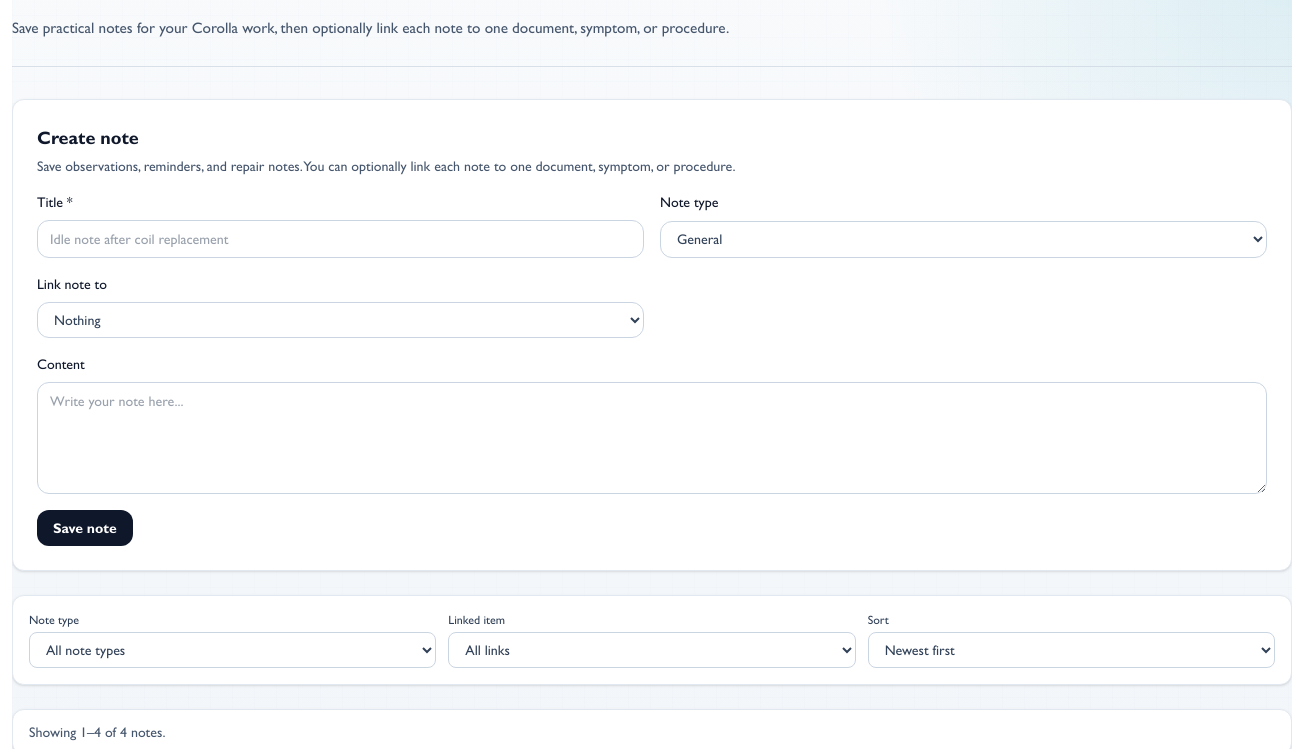
it: NotesPage filters notes by linked item type
Select "Symptom" in the dropdown labelled "Linked item" at {"x": 652, "y": 650}, box [448, 632, 856, 668]
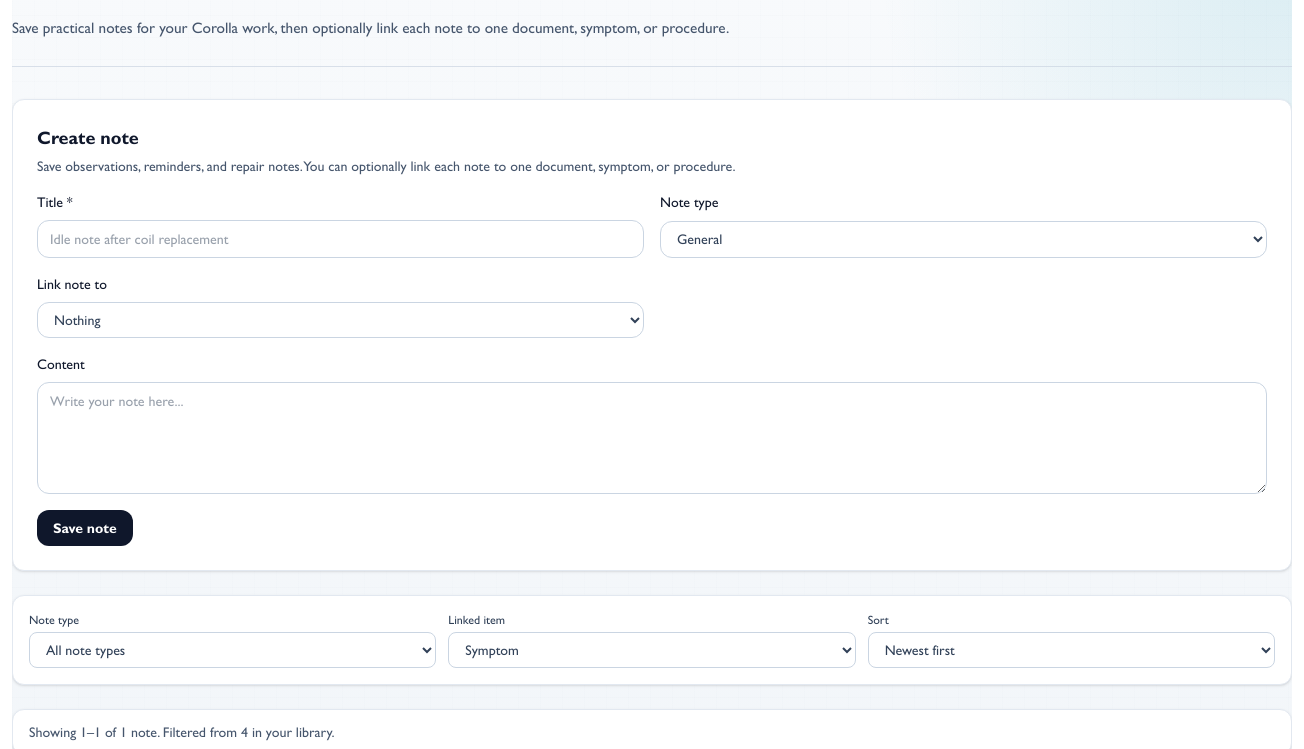
Expected: the text "Showing 1–1 of 1 note. Filtered from 4 in your library." is shown, [29, 722, 335, 742]
Expected: the text "Document note" is not shown
Expected: the text "Procedure note" is not shown
Select "No link" in the dropdown labelled "Linked item" at {"x": 652, "y": 650}, box [448, 632, 856, 668]
(page scrolled)
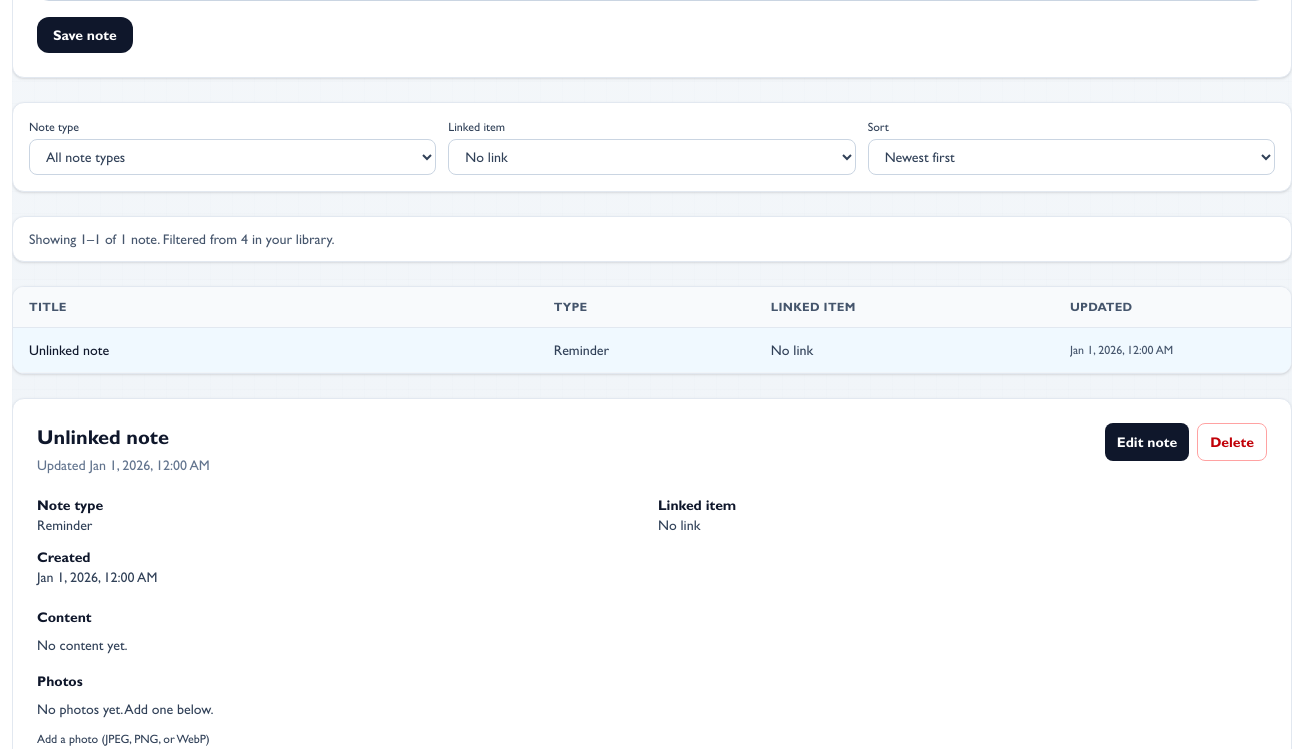
Expected: the text "Unlinked note" is shown, [29, 342, 109, 358]
Expected: the text "Symptom note" is not shown
